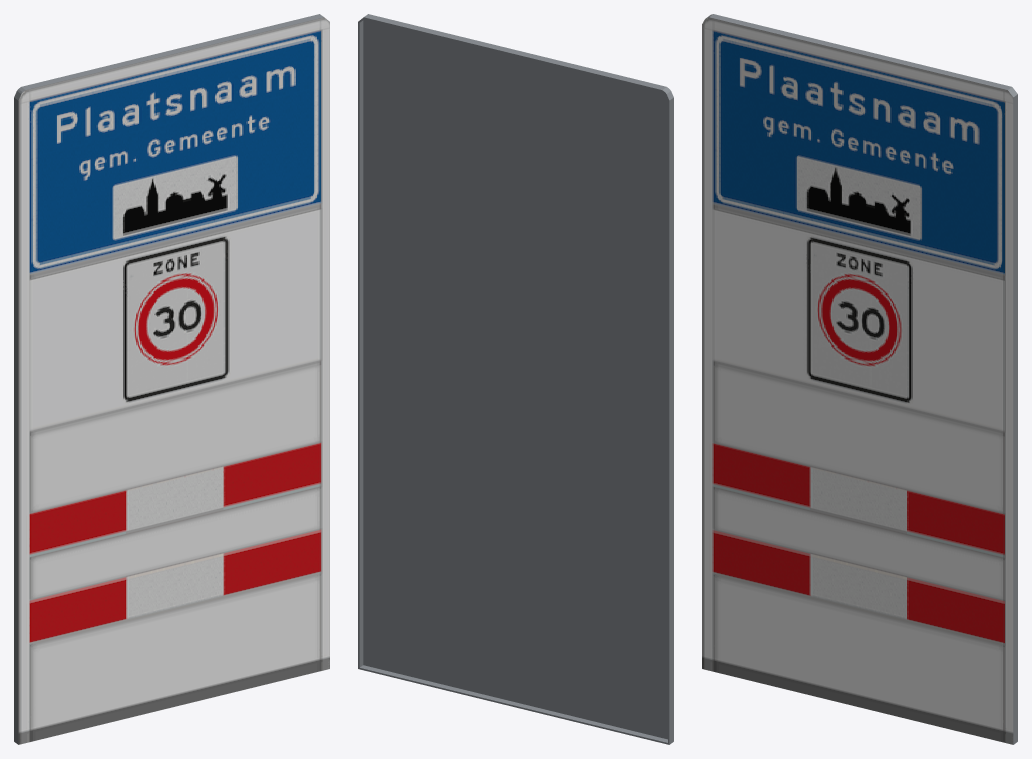
3 renders of one model, left to right at view 1: azimuth 30°, elevation 25°; view 2: azimuth 150°, elevation 25°; view 3: azimuth 330°, elevation 25°, orthographic.
Visible parts, largest first — view 1: cat_42172be4414d5d65; view 2: cat_42172be4414d5d65; view 3: cat_42172be4414d5d65.
Part boxes in pixels (<box>): cat_42172be4414d5d65: <box>14,14,329,744</box>; cat_42172be4414d5d65: <box>358,14,673,744</box>; cat_42172be4414d5d65: <box>702,14,1017,744</box>.
Bounding box in the file's own units: 0.6 × 0.015 × 1.2.
2 materials, 1 textured.
